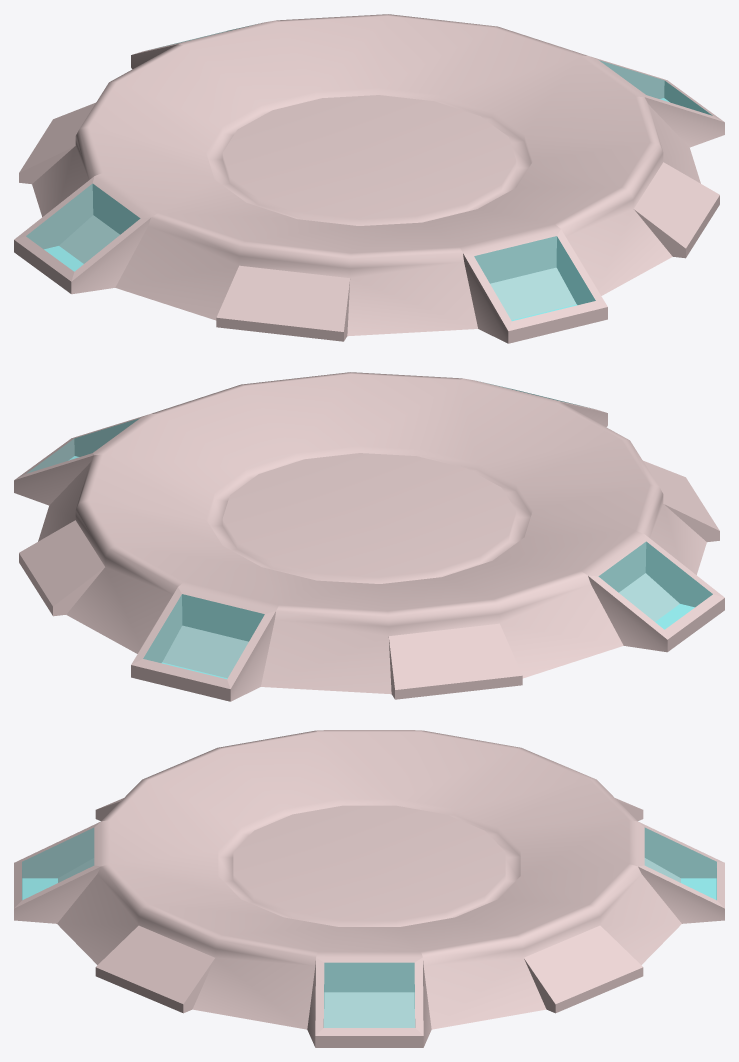
The model's file is JumpPad_v2.fbx.
The picture shows the model from 3 angles, top to bottom: view 1: azimuth 30°, elevation 25°; view 2: azimuth 150°, elevation 25°; view 3: azimuth 270°, elevation 25°; orthographic projection. The views are drawn at different scales.
Parts seen in each view (by area): view 1: JumpPad_v1, JumpPOadHolo_v1; view 2: JumpPad_v1, JumpPOadHolo_v1; view 3: JumpPad_v1, JumpPOadHolo_v1.
Boxes of the visible parts, x1,y1,x2,y2 form: JumpPad_v1: [14, 14, 724, 343]; JumpPOadHolo_v1: [26, 28, 711, 320]; JumpPad_v1: [14, 372, 724, 701]; JumpPOadHolo_v1: [27, 386, 712, 678]; JumpPad_v1: [14, 730, 724, 1047]; JumpPOadHolo_v1: [22, 828, 716, 1027].
Bounding box in the file's own units: 2.56 × 0.2208 × 2.56.
